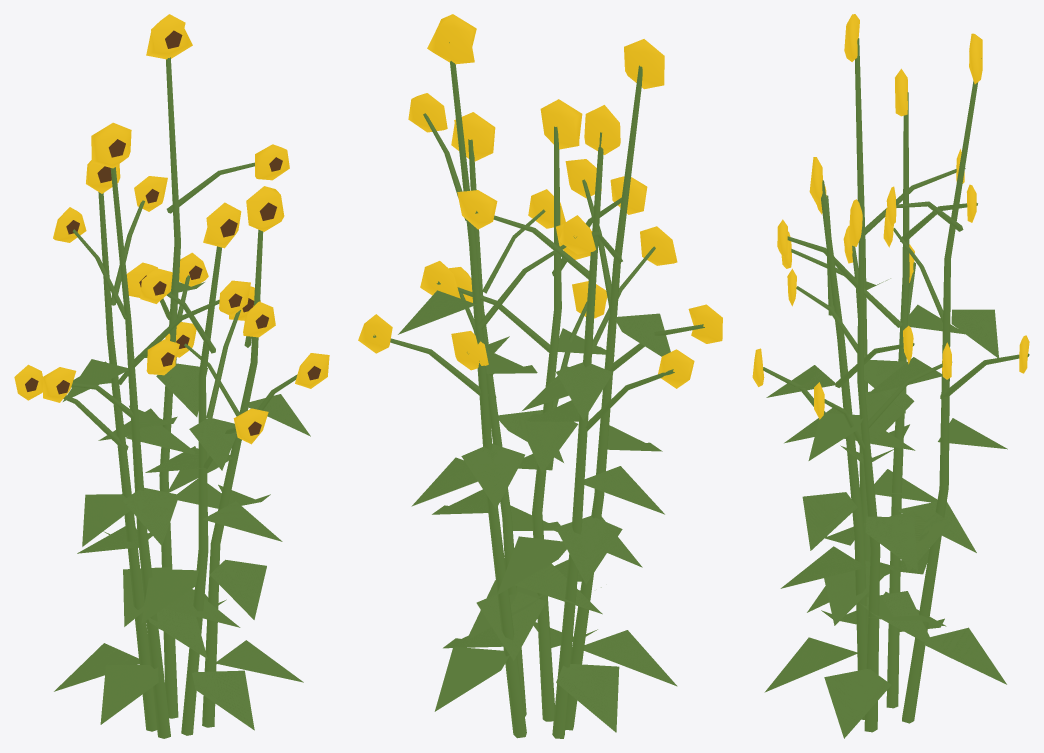
The model's file is Blender_WildSunflower_1.glb.
The picture shows the model from 3 angles, left to right: view 1: azimuth 30°, elevation 25°; view 2: azimuth 150°, elevation 25°; view 3: azimuth 270°, elevation 25°; orthographic projection. The views are drawn at different scales.
Visible parts, largest first — view 1: Blender_WildSunflower_1; view 2: Blender_WildSunflower_1; view 3: Blender_WildSunflower_1.
Part boxes in pixels (x1=…): Blender_WildSunflower_1: x1=14, y1=14, x2=329, y2=738; Blender_WildSunflower_1: x1=358, y1=14, x2=722, y2=738; Blender_WildSunflower_1: x1=752, y1=14, x2=1029, y2=738.
Size of the model in its own units: 0.8702 by 2.05 by 0.7355.
